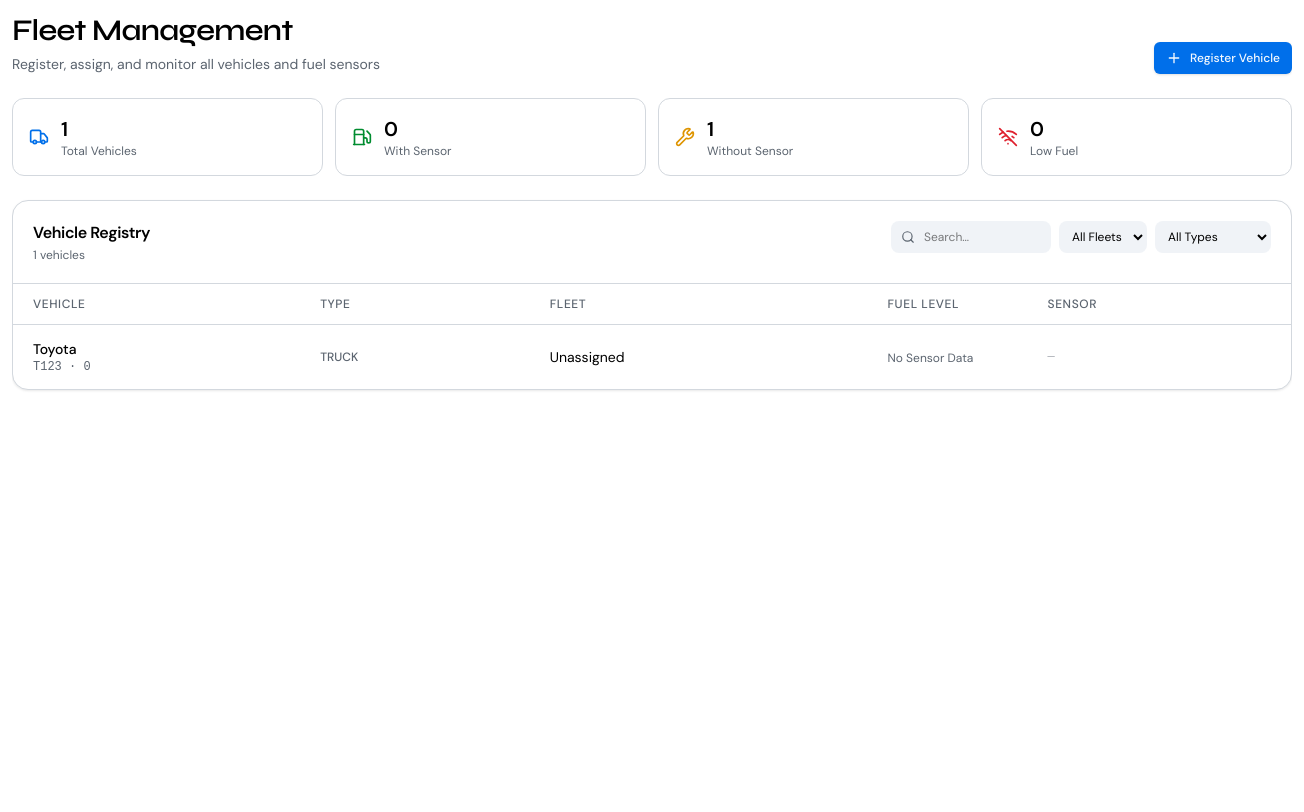
Test: Fleet Component › should render vehicle list and disabled telemetry for unassigned vehicles
Expected: the text "T123 · 0" is shown, [33,360,91,374]
Expected: the text "No Sensor Data" is shown, [888,350,973,366]
// Expand the vehicle row
Click the text "Toyota" at {"x": 55, "y": 349}, box [33,340,76,358]
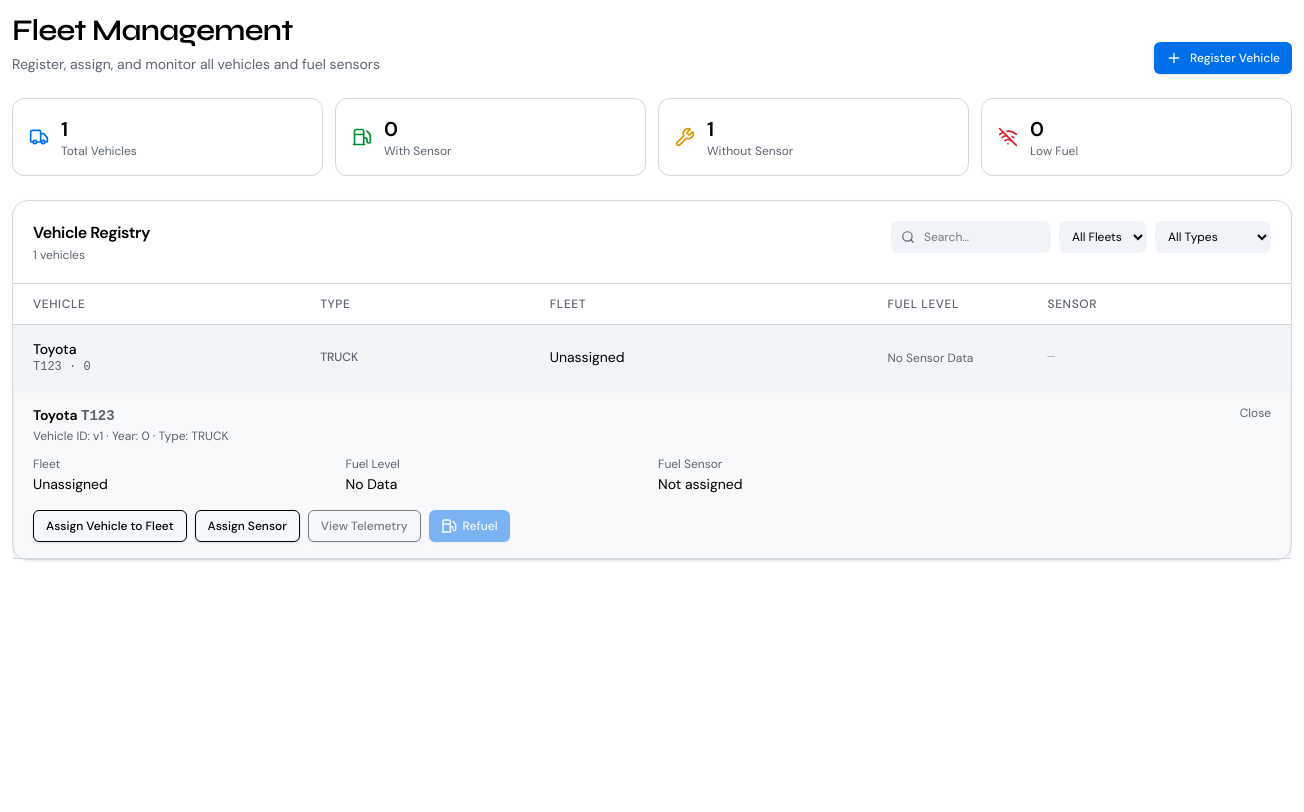
Now the button "View Telemetry" is disabled, box [308,510,421,542]
Now the button "Assign Sensor" is shown, box [194,510,300,542]
